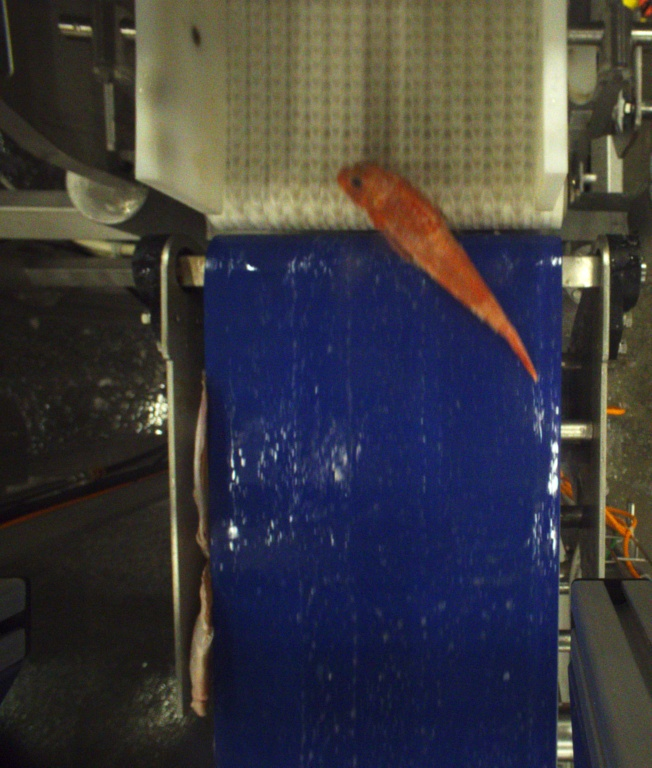GUU: (335, 160, 541, 386)
